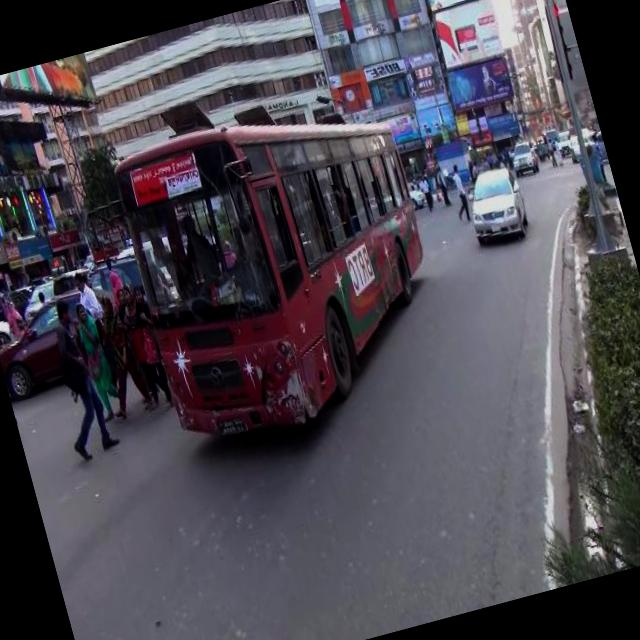bus: (96, 46, 465, 461)
car: (458, 157, 538, 250), (506, 136, 542, 180)
truck: (552, 125, 576, 158)
